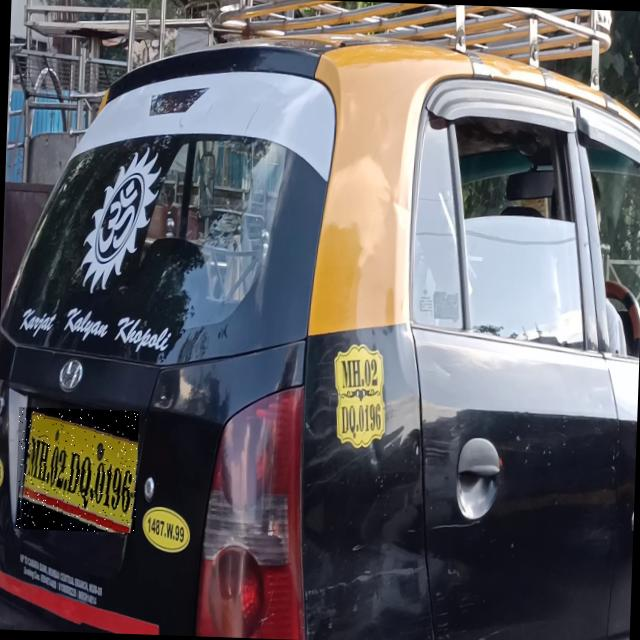Plate: (16, 408, 140, 534)
